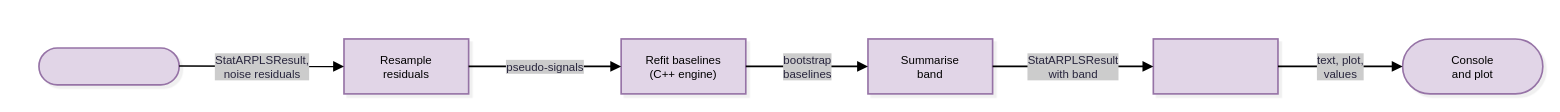
The diagram is 1560 pixels wide and 112 high, and some of its shapes have lost their labels. The shapes that lost their labels are listed below. From the top down, each one's centre as x and y in pixels, then its label:
At pixel 110 68: "from part A".
At pixel 1217 68: "Report results".
